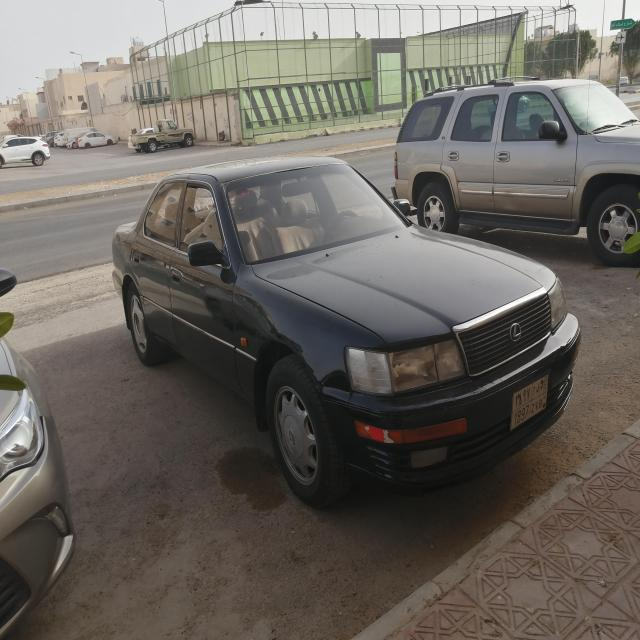license_plate: (509, 374, 549, 432)
